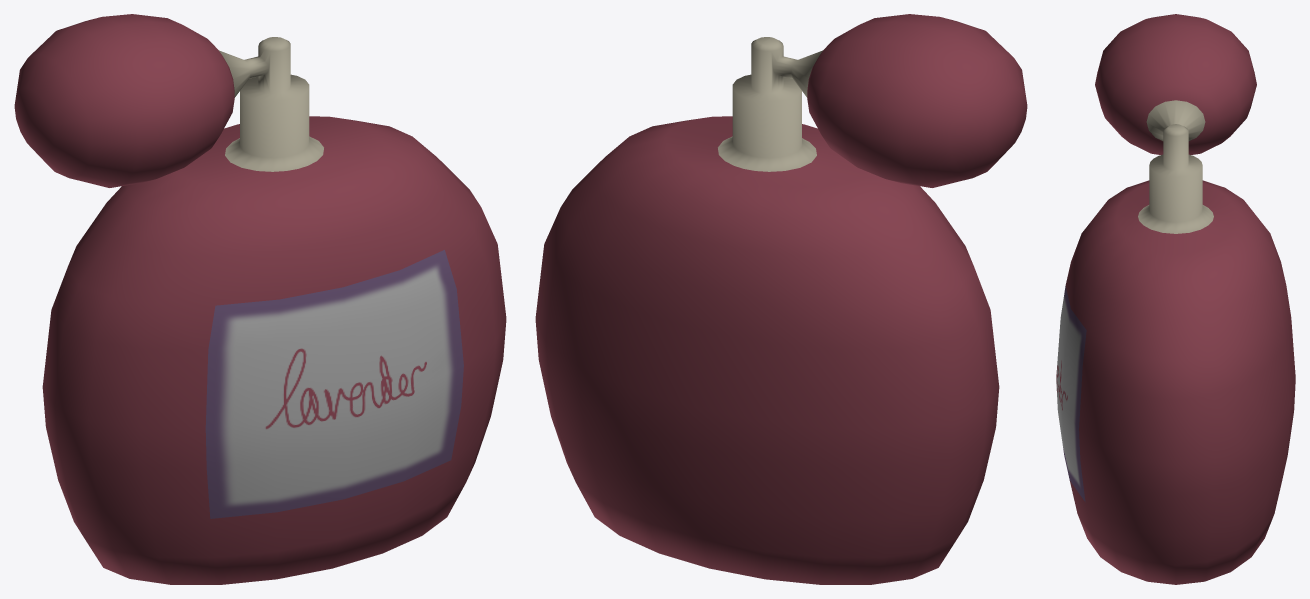
Rendered from hajuvesi.fbx.
3 views of the same model, side by side, from view 1: azimuth 30°, elevation 25°; view 2: azimuth 150°, elevation 25°; view 3: azimuth 270°, elevation 25° (orthographic). The views are drawn at different scales.
Parts seen in each view (by area): view 1: hajuvesi; view 2: hajuvesi; view 3: hajuvesi.
Part boxes in pixels (bbox=[...]): hajuvesi: bbox=[14, 14, 506, 584]; hajuvesi: bbox=[535, 14, 1027, 584]; hajuvesi: bbox=[1056, 14, 1295, 584].
Bounding box in the file's own units: 15.27 × 16.82 × 8.44.
Materials: 1 (1 with a texture image).
